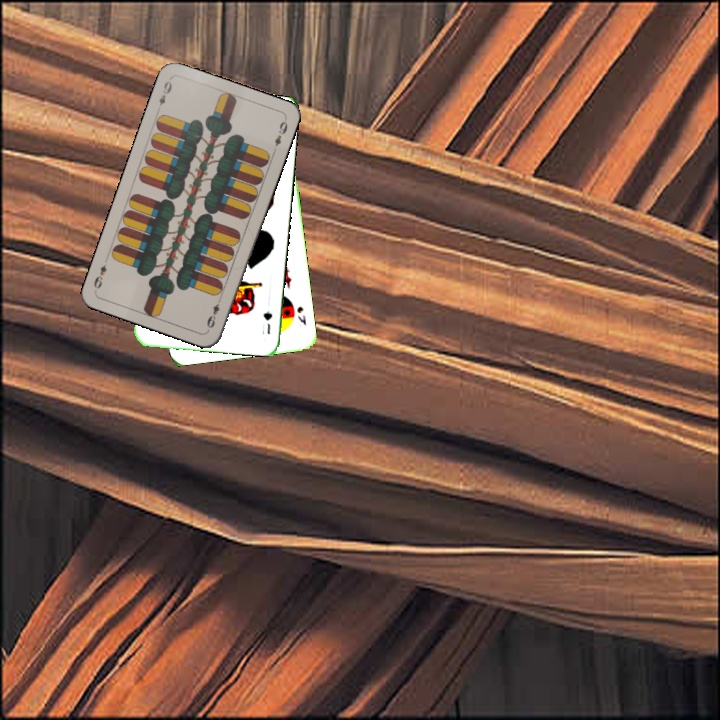E9: (203, 293, 224, 331), (155, 77, 174, 108)
GU: (259, 306, 275, 337)
SK: (293, 302, 309, 328)
